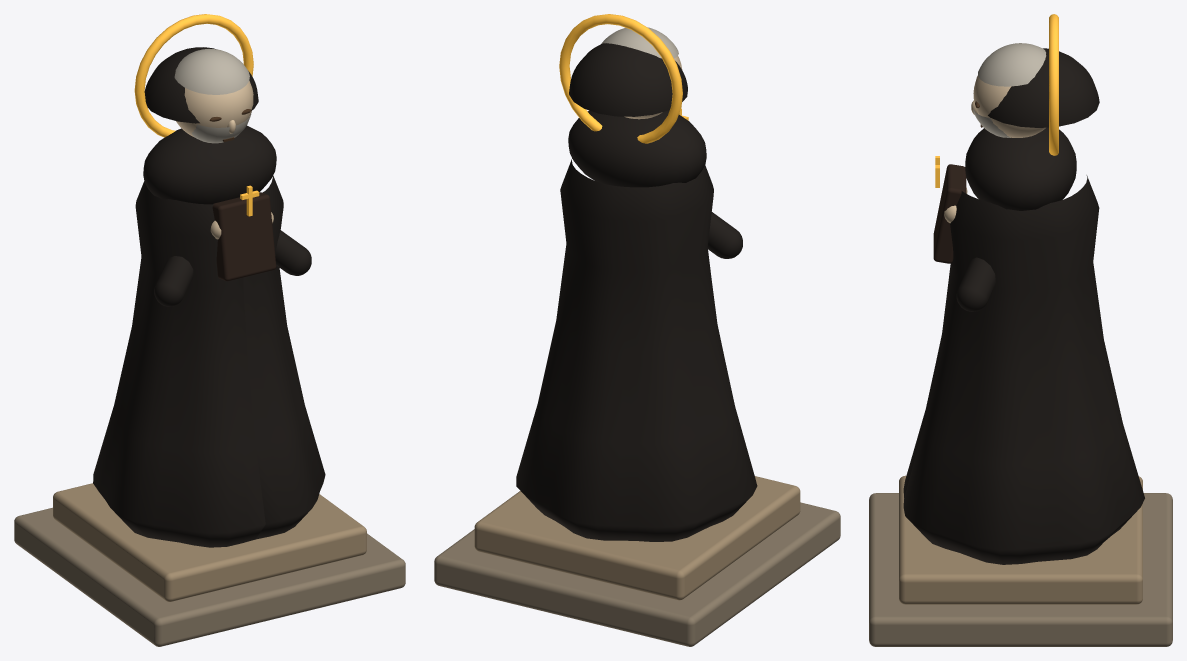
The model's file is statue-benedicto.glb.
3 renders of one model, left to right at view 1: azimuth 30°, elevation 25°; view 2: azimuth 150°, elevation 25°; view 3: azimuth 270°, elevation 25°, orthographic. The views are drawn at different scales.
Parts seen in each view (by area): view 1: Robe, PlinthLow, PlinthTop, Shoulders, RuleBook, Hair, Arm (×2), object 19, Hood, Head, Beard; view 2: Robe, PlinthLow, PlinthTop, Shoulders, Hood, object 19, Arm, Hair; view 3: Robe, PlinthLow, PlinthTop, Shoulders, Hood, Hair, RuleBook, Arm, object 19, Head.
Part boxes in pixels (<box>): Robe: <box>93,175,325,547</box>; PlinthLow: <box>14,507,405,646</box>; PlinthTop: <box>53,483,366,601</box>; Shoulders: <box>143,125,276,204</box>; RuleBook: <box>212,192,276,281</box>; Hair: <box>174,49,249,94</box>; Arm (×2): <box>154,230,311,306</box>; object 19: <box>134,14,253,137</box>; Hood: <box>144,47,258,123</box>; Head: <box>176,81,253,137</box>; Beard: <box>192,112,251,143</box>; Robe: <box>516,158,757,541</box>; PlinthLow: <box>434,502,840,646</box>; PlinthTop: <box>474,476,800,600</box>; Shoulders: <box>568,110,706,187</box>; Hood: <box>569,43,687,116</box>; object 19: <box>559,14,682,143</box>; Arm: <box>707,212,742,258</box>; Hair: <box>601,27,678,58</box>; Robe: <box>903,175,1144,564</box>; PlinthLow: <box>869,493,1172,646</box>; PlinthTop: <box>899,475,1142,604</box>; Shoulders: <box>965,127,1076,210</box>; Hood: <box>988,48,1099,127</box>; Hair: <box>978,43,1046,86</box>; RuleBook: <box>933,164,966,263</box>; Arm: <box>956,257,995,311</box>; object 19: <box>1049,14,1058,155</box>; Head: <box>973,75,1045,137</box>.
Bounding box in the file's own units: 0.92 × 1.89 × 0.92.
